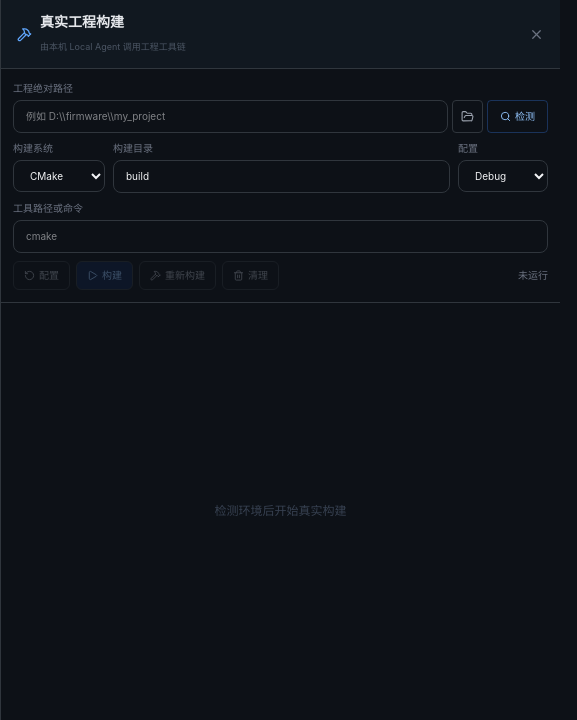
Test case: ProjectBuildPanel capability-gated workflow › uses the system directory picker and immediately detects the selected project
The image size is (577, 720).
Click the button named "选择目录" at (468,116), box 452,100 -> 483,133
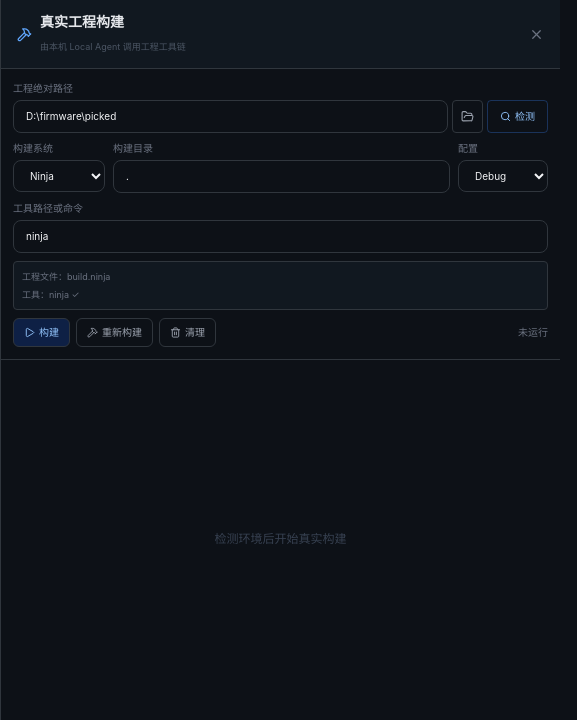
Now the field showing "D:\\firmware\\picked" is shown, box 13,100 -> 448,133
Now the text "工程文件：build.ninja" is shown, box 22,271 -> 110,282
